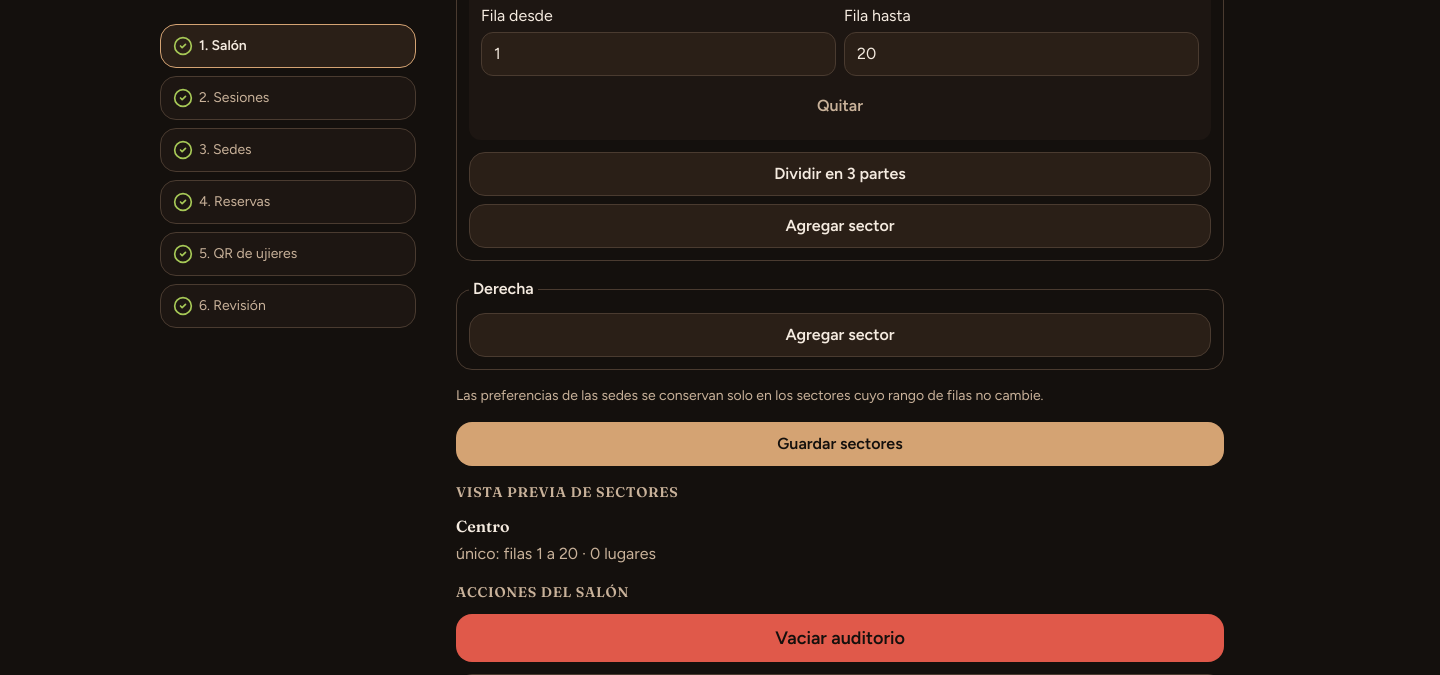
Test case: SalonPaso: sectores › muestra los errores SECTORES_INVALIDOS uno por uno y no recarga
(page scrolled)
Click the button "Guardar sectores".
click(840, 444)  # box left=456, top=422, right=1224, bottom=466
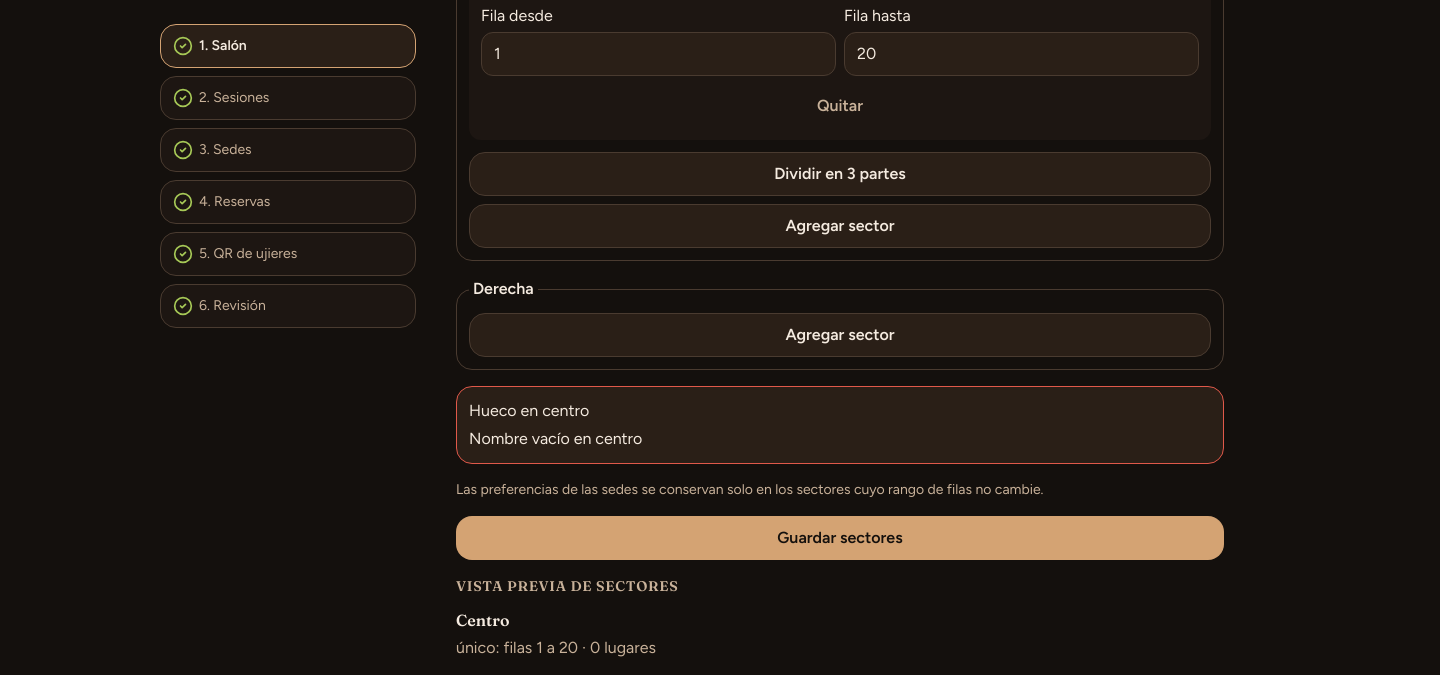
Result: the list item "Hueco en centro" is shown at left=469, top=401, right=589, bottom=420
Result: the list item "Nombre vacío en centro" is shown at left=469, top=429, right=642, bottom=448
